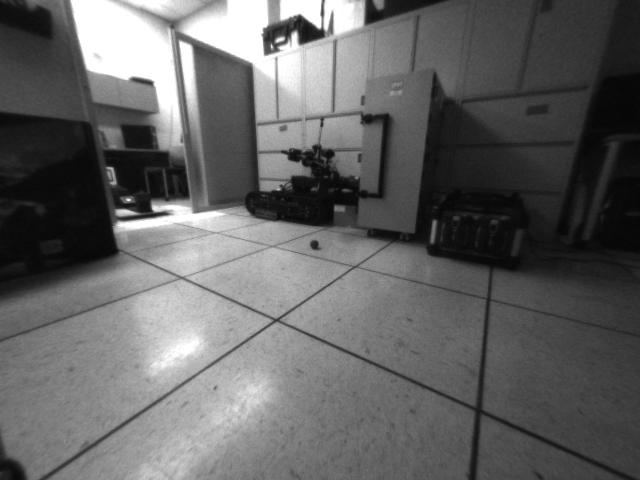dogtoy: (305, 236, 325, 252)
